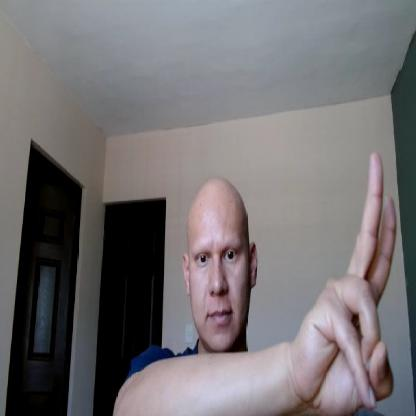V: (299, 149, 399, 415)
